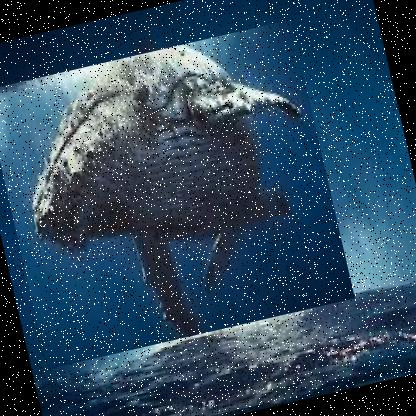blue_whale: (0, 18, 357, 370)
